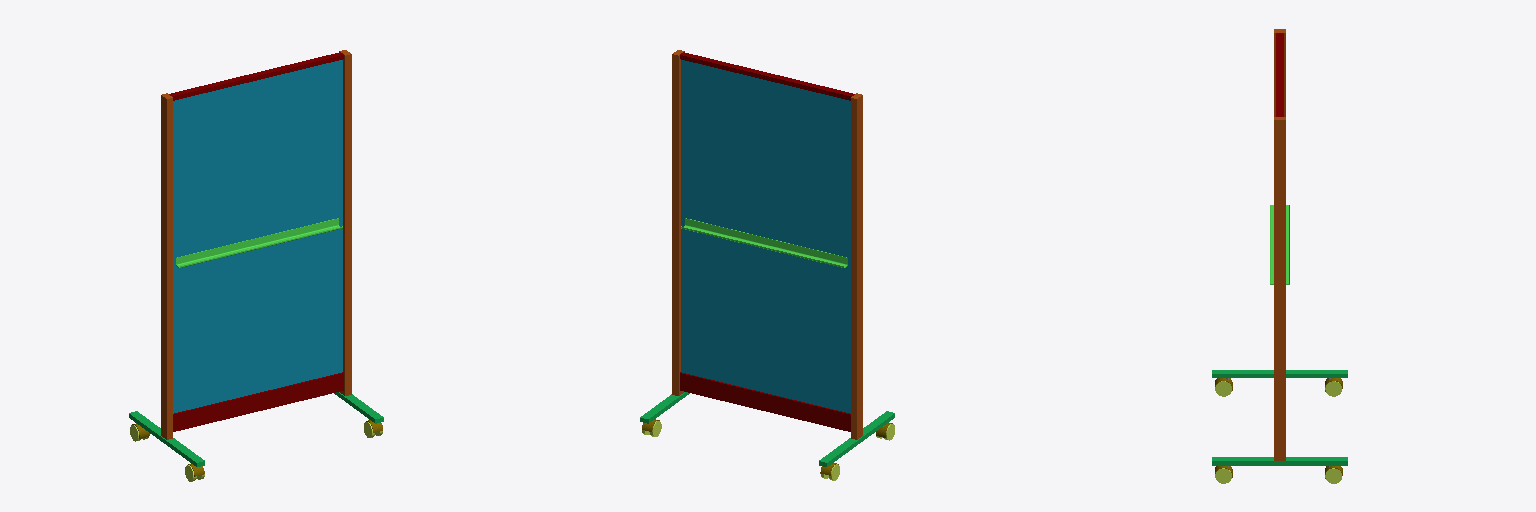
File: F_officefurniture_011.obj
3 views of the same model, side by side, from view 1: azimuth 30°, elevation 25°; view 2: azimuth 150°, elevation 25°; view 3: azimuth 270°, elevation 25° (orthographic).
Parts seen in each view (by area): view 1: Rectangle01, Line01, Line04, Line02, Line15, Line03, Line14; view 2: Rectangle01, Line01, Line04, Line02, Line16, Line03, Line14; view 3: Line02, Line05, Line14, Line03.
Part boxes in pixels (x1,y1,x2,y2): Rectangle01: (173,60,342,413); Line01: (161,93,172,439); Line04: (173,372,343,431); Line02: (339,50,351,395); Line15: (176,218,342,267); Line03: (169,52,343,100); Line14: (129,411,204,466); Rectangle01: (681,60,850,413); Line01: (851,93,862,439); Line04: (680,372,850,431); Line02: (672,50,684,395); Line16: (681,218,847,267); Line03: (680,52,854,100); Line14: (819,411,894,466); Line02: (1274,117,1285,460); Line05: (1212,457,1347,465); Line14: (1212,370,1347,377); Line03: (1276,33,1283,116).
Size of the model in its own units: 900 by 1643 by 560.